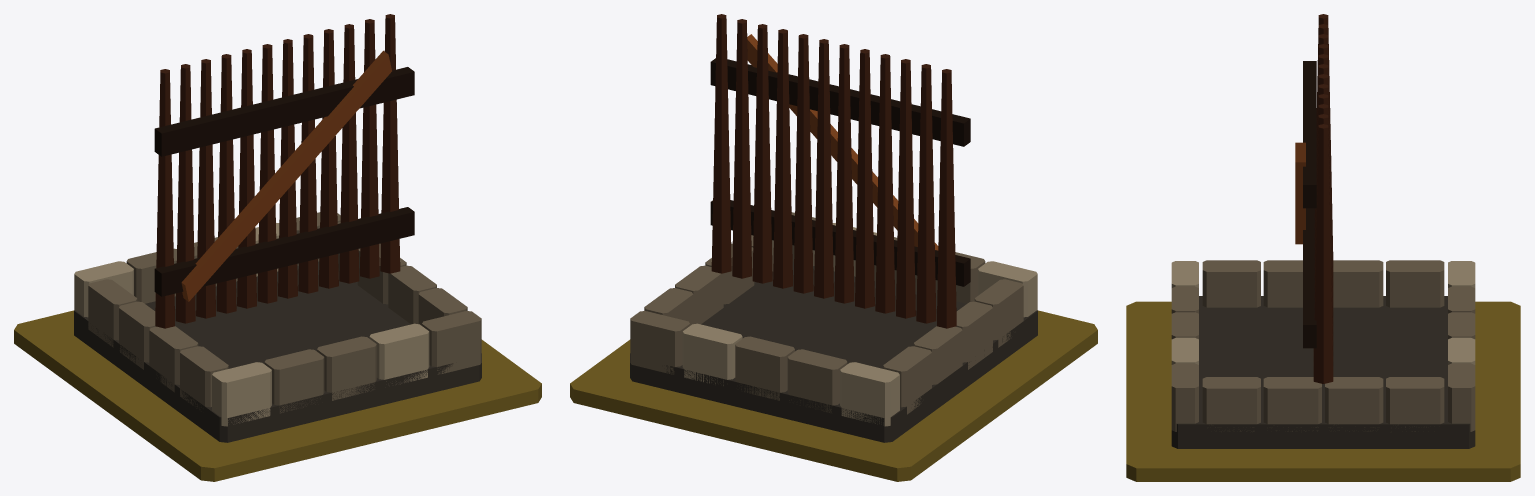
File: wall_t3.glb
The picture shows the model from 3 angles, left to right: view 1: azimuth 30°, elevation 25°; view 2: azimuth 150°, elevation 25°; view 3: azimuth 270°, elevation 25°; orthographic projection.
Visible parts, largest first — view 1: MMR | wall | T03 Architecture.001, MMR | wall | Tier 03 Ground.001; view 2: MMR | wall | T03 Architecture.001, MMR | wall | Tier 03 Ground.001; view 3: MMR | wall | T03 Architecture.001, MMR | wall | Tier 03 Ground.001.
Part boxes in pixels (<box>): MMR | wall | T03 Architecture.001: <box>74,14,481,442</box>; MMR | wall | Tier 03 Ground.001: <box>14,310,541,481</box>; MMR | wall | T03 Architecture.001: <box>630,14,1037,442</box>; MMR | wall | Tier 03 Ground.001: <box>570,310,1097,481</box>; MMR | wall | T03 Architecture.001: <box>1171,14,1475,448</box>; MMR | wall | Tier 03 Ground.001: <box>1126,301,1520,481</box>.
Size of the model in its own units: 1.3 by 1.19 by 1.3.
Materials: 1 (1 with a texture image).
